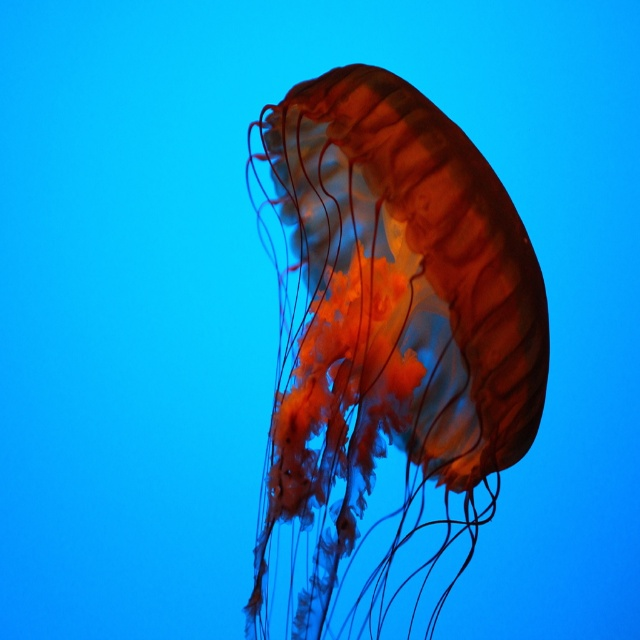Jellyfish: (240, 62, 549, 639)
